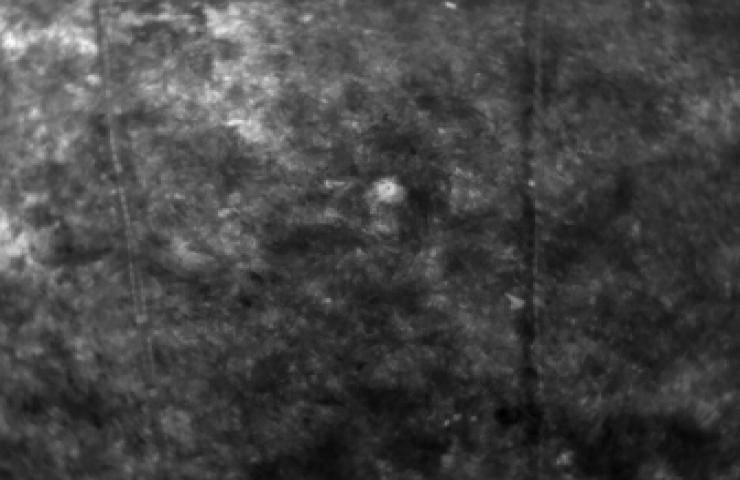landmines: (371, 176, 403, 199)
